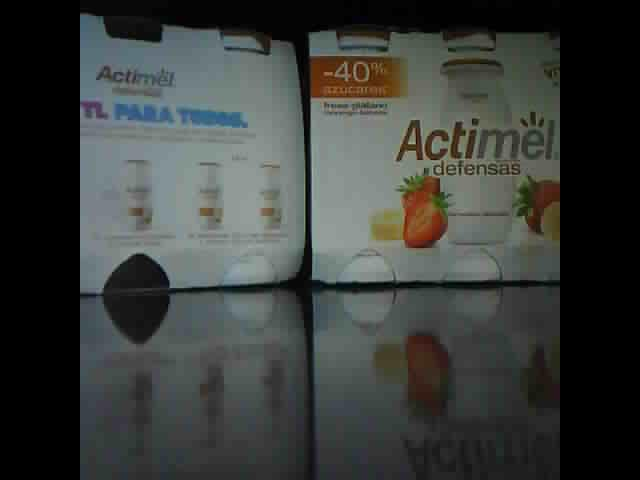actimel: (307, 21, 560, 285), (80, 7, 305, 301)
